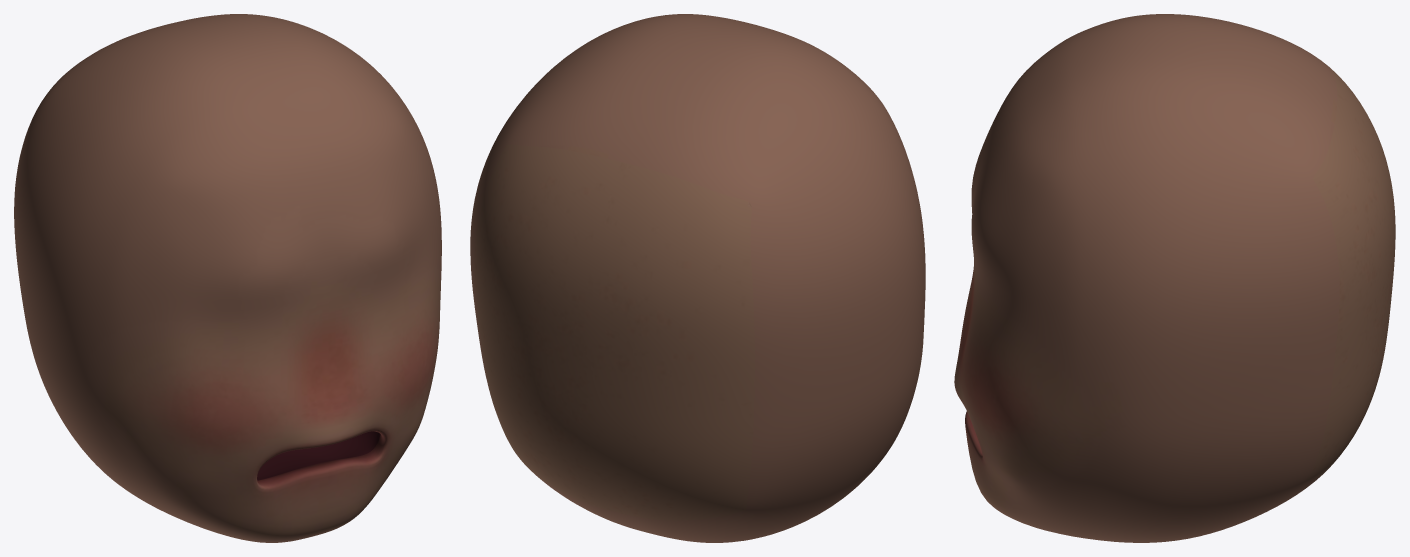
File: head7.glb
3 renders of one model, left to right at view 1: azimuth 30°, elevation 25°; view 2: azimuth 150°, elevation 25°; view 3: azimuth 270°, elevation 25°, orthographic. The views are drawn at different scales.
Parts seen in each view (by area): view 1: head.007; view 2: head.007; view 3: head.007.
Part boxes in pixels (bbox=[...]): head.007: bbox=[14, 14, 441, 542]; head.007: bbox=[470, 14, 925, 542]; head.007: bbox=[954, 14, 1395, 542].
Bounding box in the file's own units: 1.35 × 1.62 × 1.34.
Materials: 1 (1 with a texture image).
